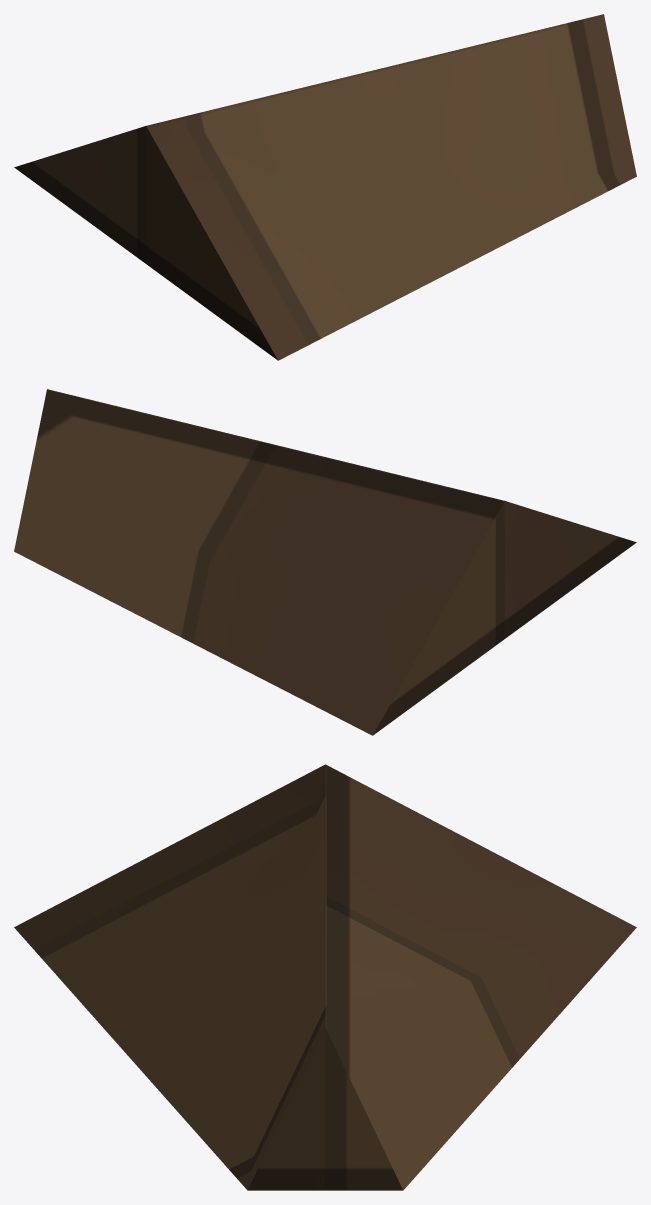
Rendered from ridge_cap_end.glb.
The picture shows the model from 3 angles, top to bottom: view 1: azimuth 30°, elevation 25°; view 2: azimuth 150°, elevation 25°; view 3: azimuth 270°, elevation 25°; orthographic projection. The views are drawn at different scales.
Parts seen in each view (by area): view 1: ridge_cap_end; view 2: ridge_cap_end; view 3: ridge_cap_end.
Part boxes in pixels (x1,y1,x2,y2): ridge_cap_end: (14, 14, 636, 360); ridge_cap_end: (14, 389, 636, 735); ridge_cap_end: (14, 764, 636, 1190).
Size of the model in its own units: 0.4 by 0.1155 by 0.4.
1 material, 1 textured.
